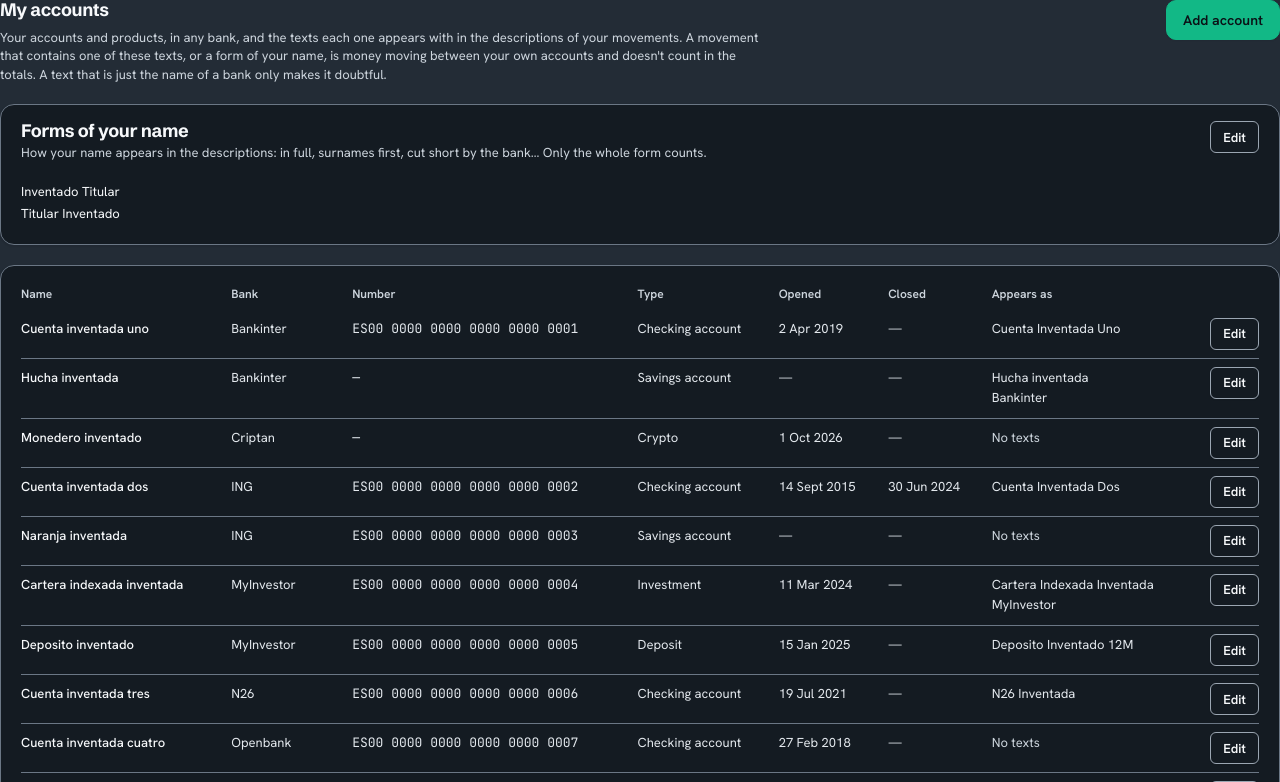
Test: OwnAccountsView › offers no way to delete a row
The width and height of the screenshot is (1280, 782).
// The account window removes texts, never the row.
What coordinates should you click on to do the following:
click the button "Edit" in the row of "ES00 0000 0000 0000 0000 0001"
I would click on:
 (1235, 334)
Its box is x1=1210 y1=318 x2=1259 y2=350.
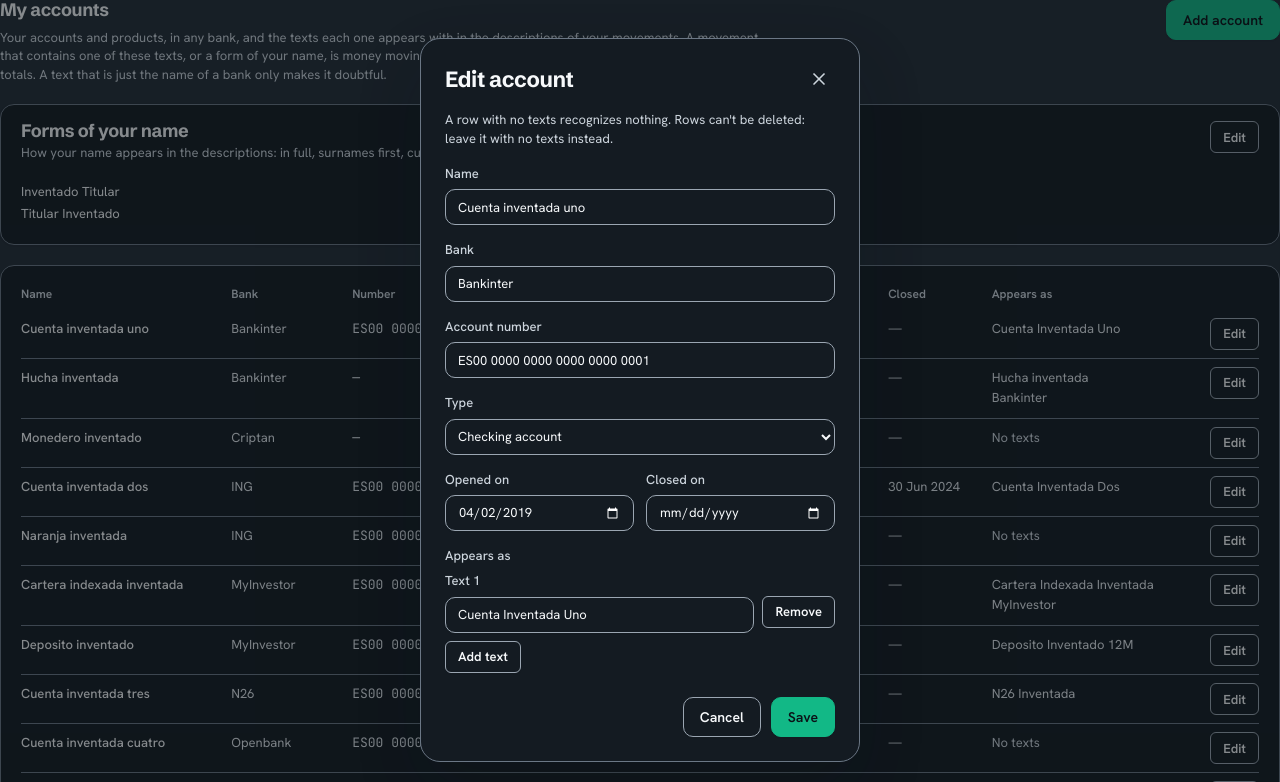
Now the element showing "Text 1 Remove" is shown, box x1=445 y1=572 x2=835 y2=633
Now the text with test id "account-hint" shows "Rows can't be deleted: leave it with no texts instead.", box x1=445 y1=112 x2=805 y2=147
